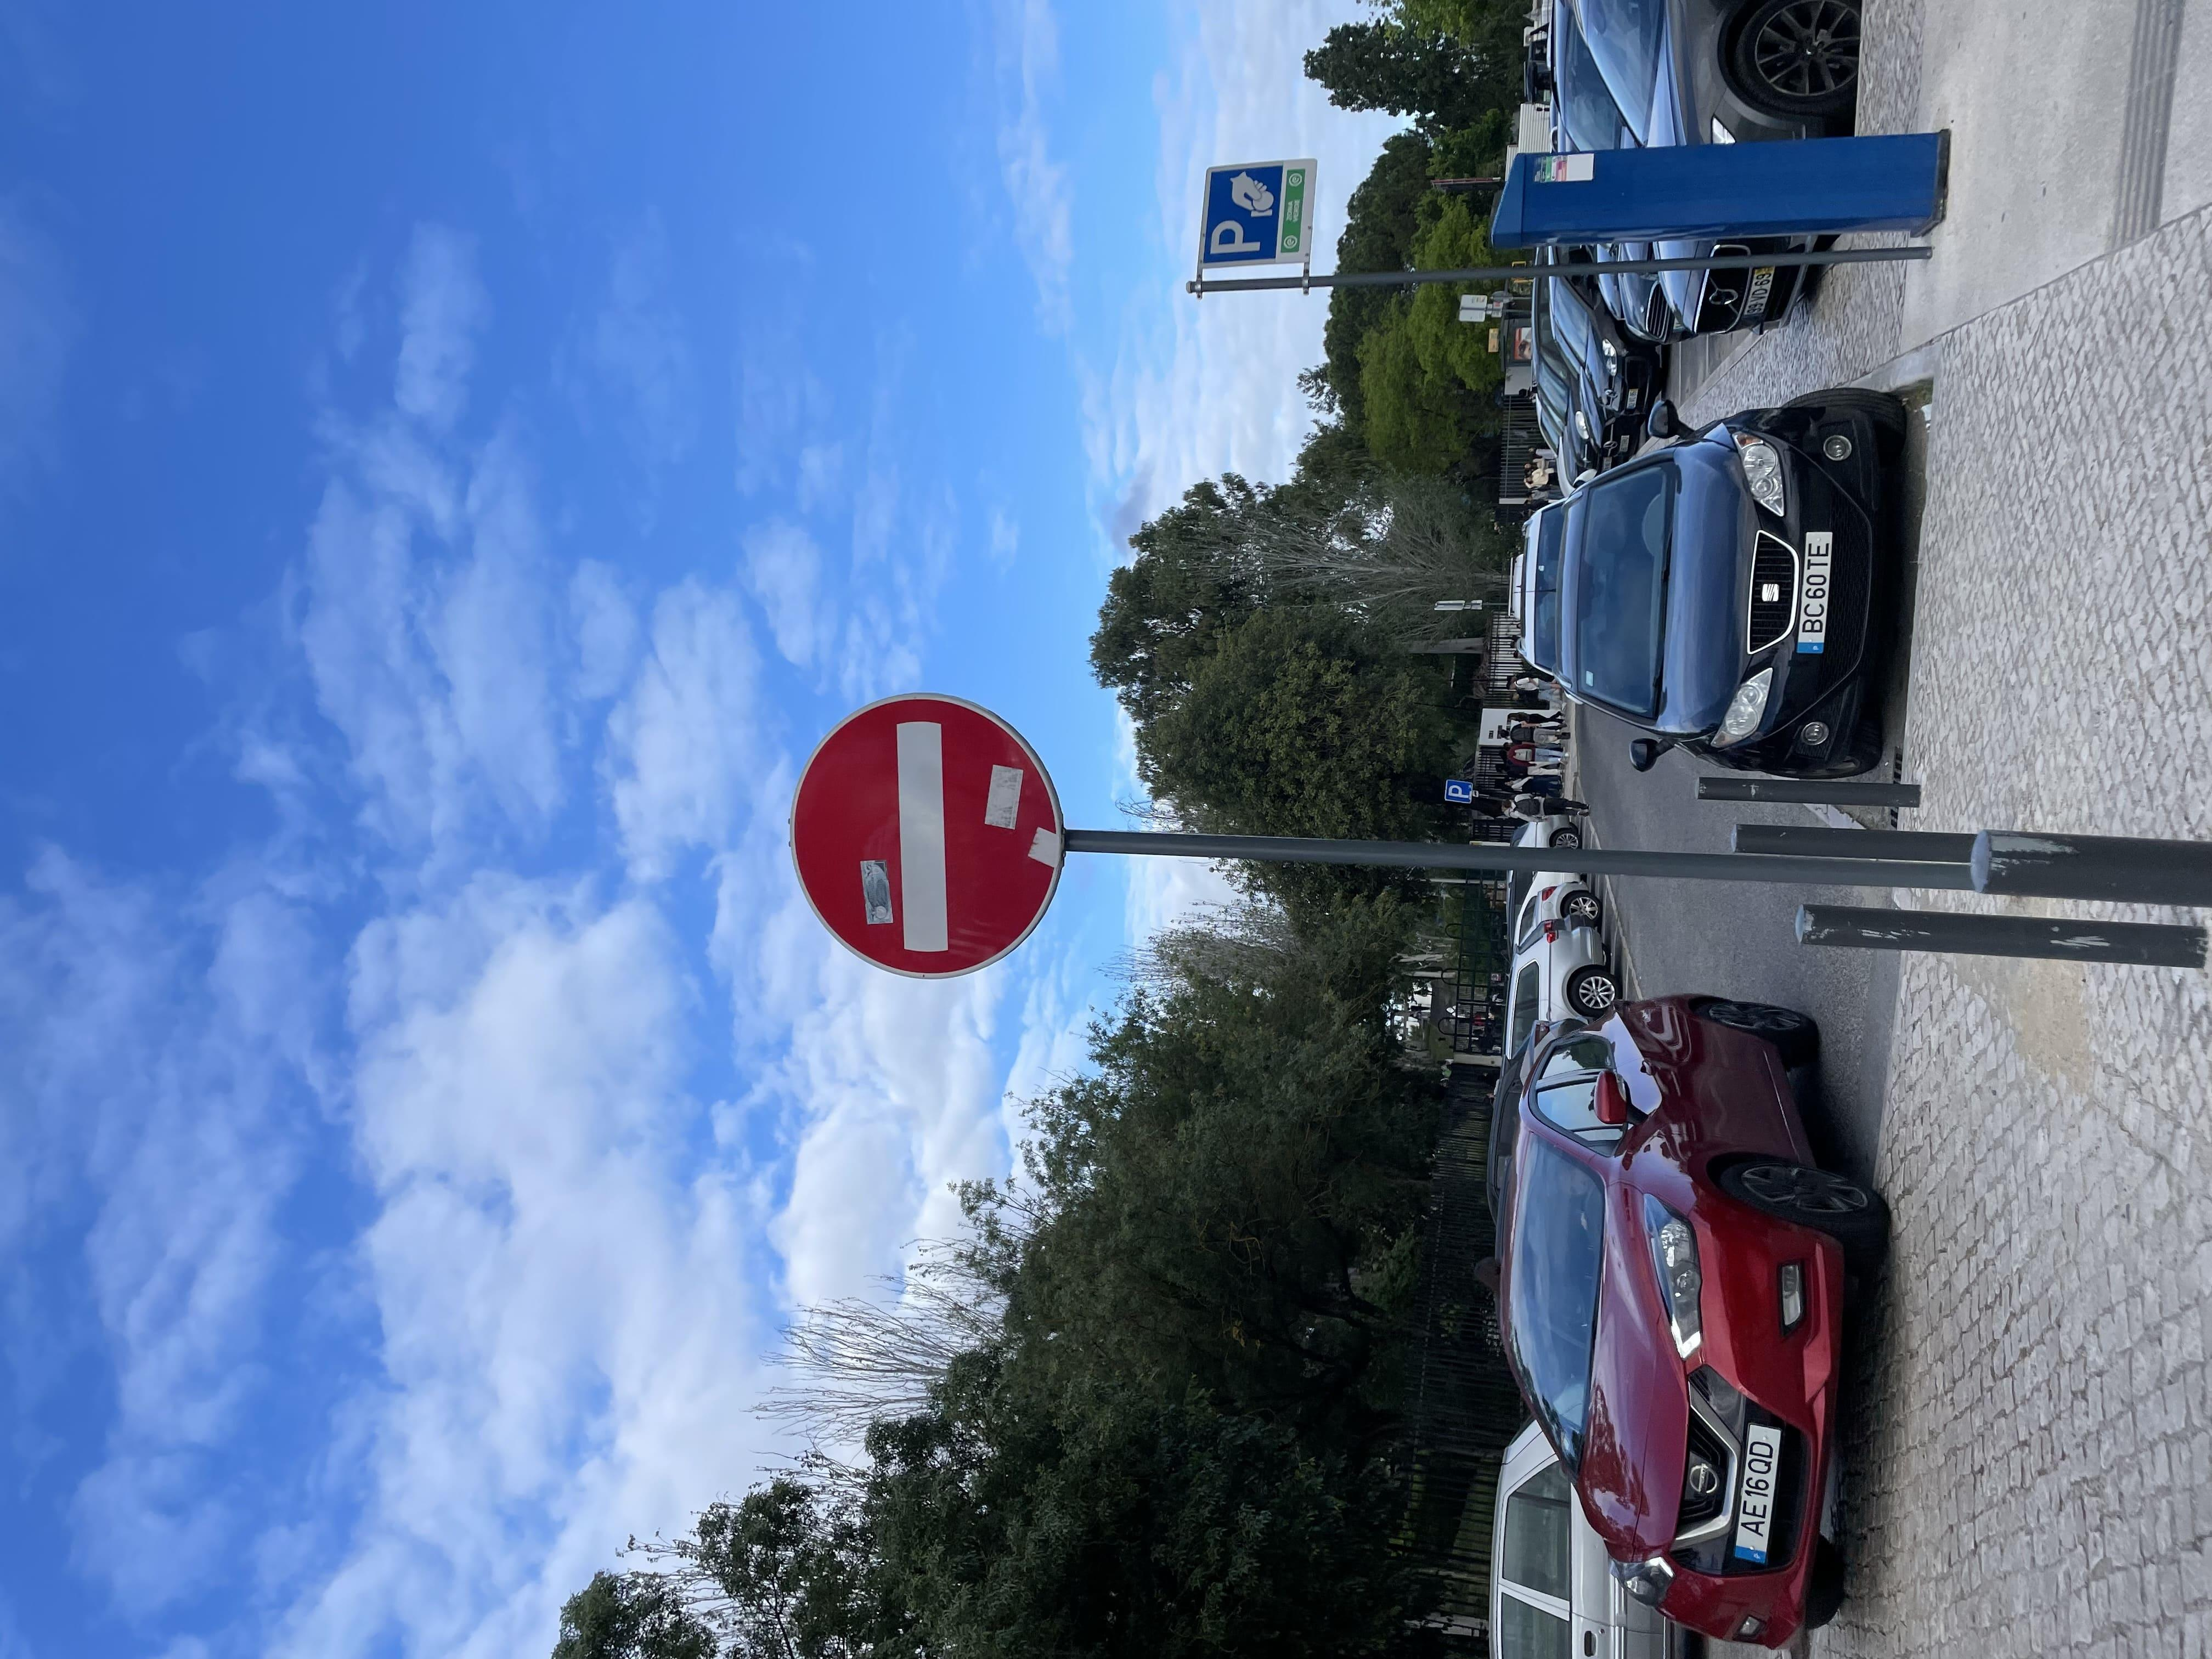Sentido proibido: (796, 706, 1061, 979)
